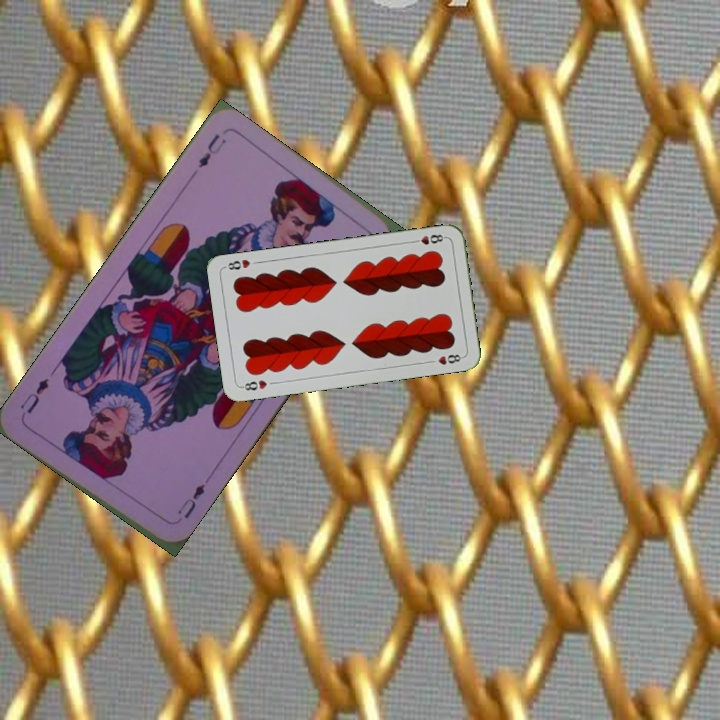EU: (173, 480, 208, 522), (194, 129, 229, 171)
H8: (408, 230, 448, 247), (238, 376, 270, 393)
